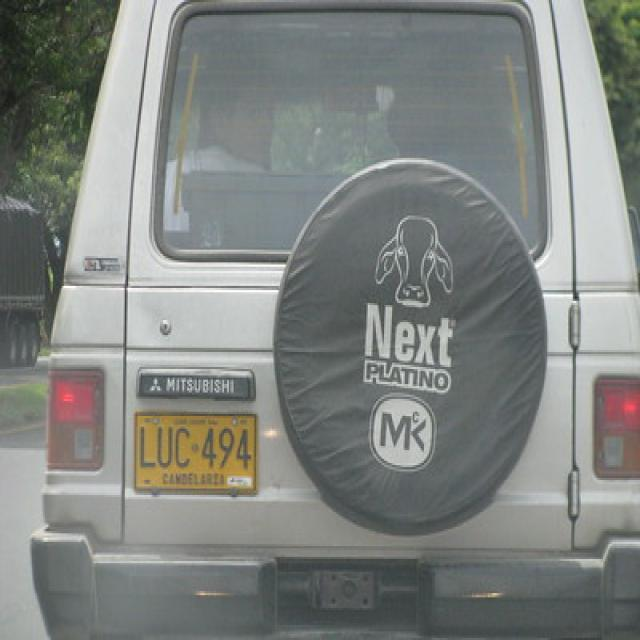placa_carro: (131, 404, 267, 508)
